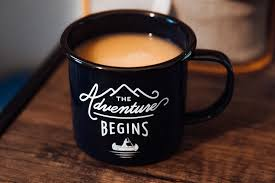cup: (55, 7, 238, 170)
